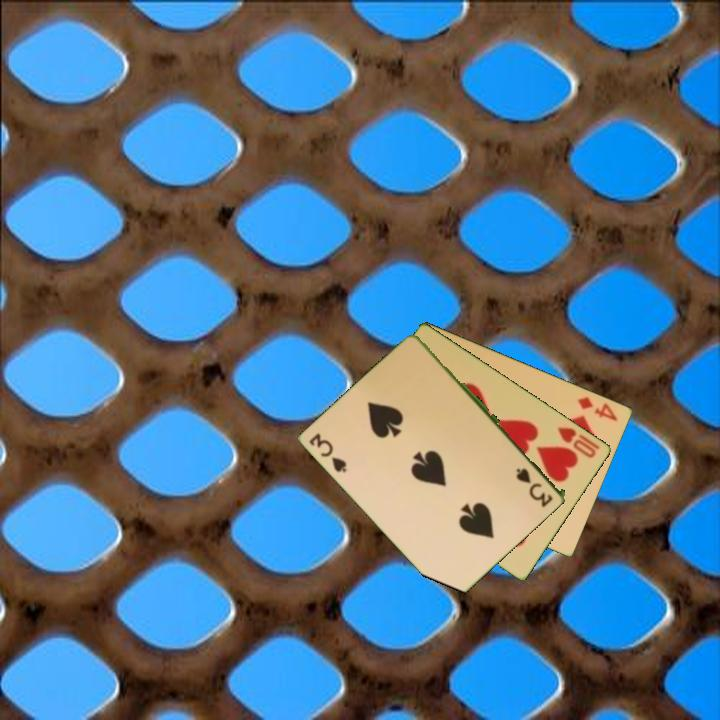10h: (554, 423, 603, 461)
3s: (306, 429, 351, 475), (512, 464, 556, 508)
4d: (574, 393, 621, 424)
